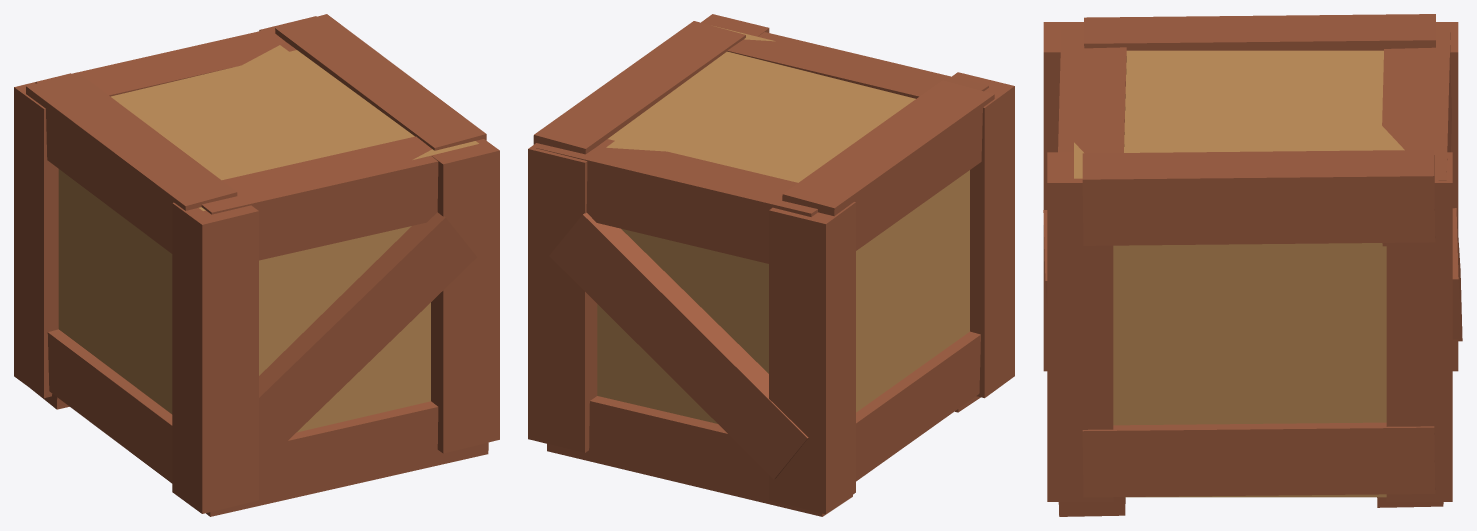
The model's file is Caixa.fbx.
3 views of the same model, side by side, from view 1: azimuth 30°, elevation 25°; view 2: azimuth 150°, elevation 25°; view 3: azimuth 270°, elevation 25° (orthographic). The views are drawn at different scales.
Visible parts, largest first — view 1: Cube, Cube.003, Cube.014, Cube.001, Cube.010, Cube.005, Cube.011, Cube.004, Cube.008, Cube.006, Cube.009; view 2: Cube, Cube.004, Cube.013, Cube.002, Cube.009, Cube.005, Cube.003, Cube.012, Cube.008, Cube.006, Cube.010, Cube.001; view 3: Cube, Cube.008, Cube.007, Cube.001, Cube.002, Cube.005, Cube.009, Cube.010, Cube.003, Cube.004, Cube.013, Cube.011.
Boxes of the visible parts, x1=… form: Cube: x1=58, y1=45, x2=478, y2=432; Cube.003: x1=172, y1=202, x2=258, y2=513; Cube.014: x1=259, y1=212, x2=477, y2=468; Cube.001: x1=431, y1=139, x2=499, y2=453; Cube.010: x1=201, y1=136, x2=438, y2=260; Cube.005: x1=26, y1=72, x2=237, y2=253; Cube.011: x1=206, y1=401, x2=488, y2=516; Cube.004: x1=14, y1=73, x2=70, y2=398; Cube.008: x1=275, y1=14, x2=486, y2=150; Cube.006: x1=47, y1=329, x2=172, y2=483; Cube.009: x1=35, y1=26, x2=285, y2=96; Cube: x1=597, y1=26, x2=969, y2=423; Cube.004: x1=769, y1=202, x2=855, y2=514; Cube.013: x1=549, y1=212, x2=808, y2=479; Cube.002: x1=528, y1=139, x2=614, y2=452; Cube.009: x1=536, y1=144, x2=817, y2=263; Cube.005: x1=782, y1=80, x2=994, y2=250; Cube.003: x1=952, y1=72, x2=1014, y2=398; Cube.012: x1=547, y1=396, x2=852, y2=516; Cube.008: x1=533, y1=21, x2=745, y2=154; Cube.006: x1=856, y1=331, x2=980, y2=481; Cube.010: x1=727, y1=32, x2=988, y2=98; Cube.001: x1=701, y1=14, x2=769, y2=36; Cube: x1=1074, y1=50, x2=1404, y2=497; Cube.008: x1=1082, y1=150, x2=1435, y2=245; Cube.007: x1=1082, y1=422, x2=1435, y2=497; Cube.001: x1=1047, y1=152, x2=1113, y2=501; Cube.002: x1=1386, y1=152, x2=1452, y2=501; Cube.005: x1=1084, y1=14, x2=1435, y2=50; Cube.009: x1=1382, y1=28, x2=1451, y2=246; Cube.010: x1=1058, y1=28, x2=1126, y2=153; Cube.003: x1=1043, y1=22, x2=1083, y2=371; Cube.004: x1=1436, y1=22, x2=1458, y2=371; Cube.013: x1=1452, y1=208, x2=1462, y2=341; Cube.011: x1=1058, y1=497, x2=1125, y2=516.
Bounding box in the file's own units: 220 × 218 × 238.
